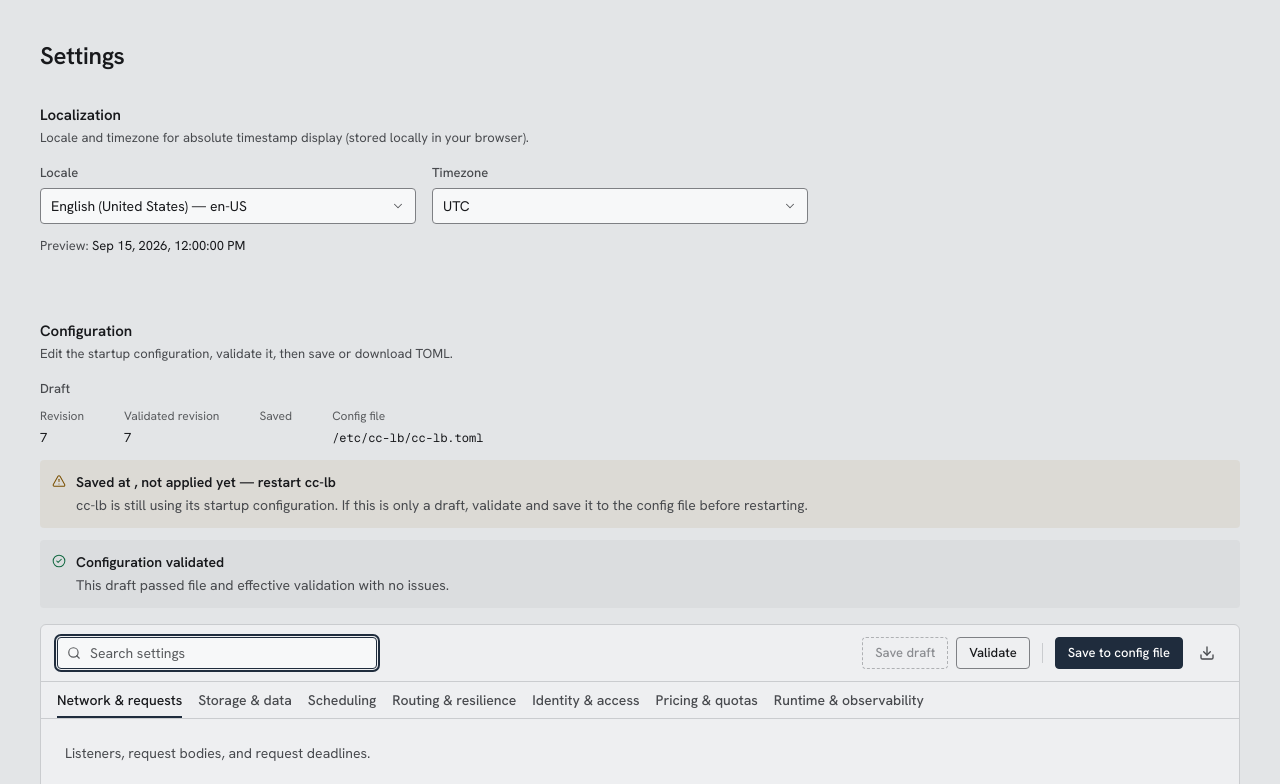
it: search option pointer selection survives the input blur race
The image size is (1280, 784).
Step 1. Type "tracing" into the dropdown labelled "Search settings" → (217, 653), box left=57, top=637, right=377, bottom=669
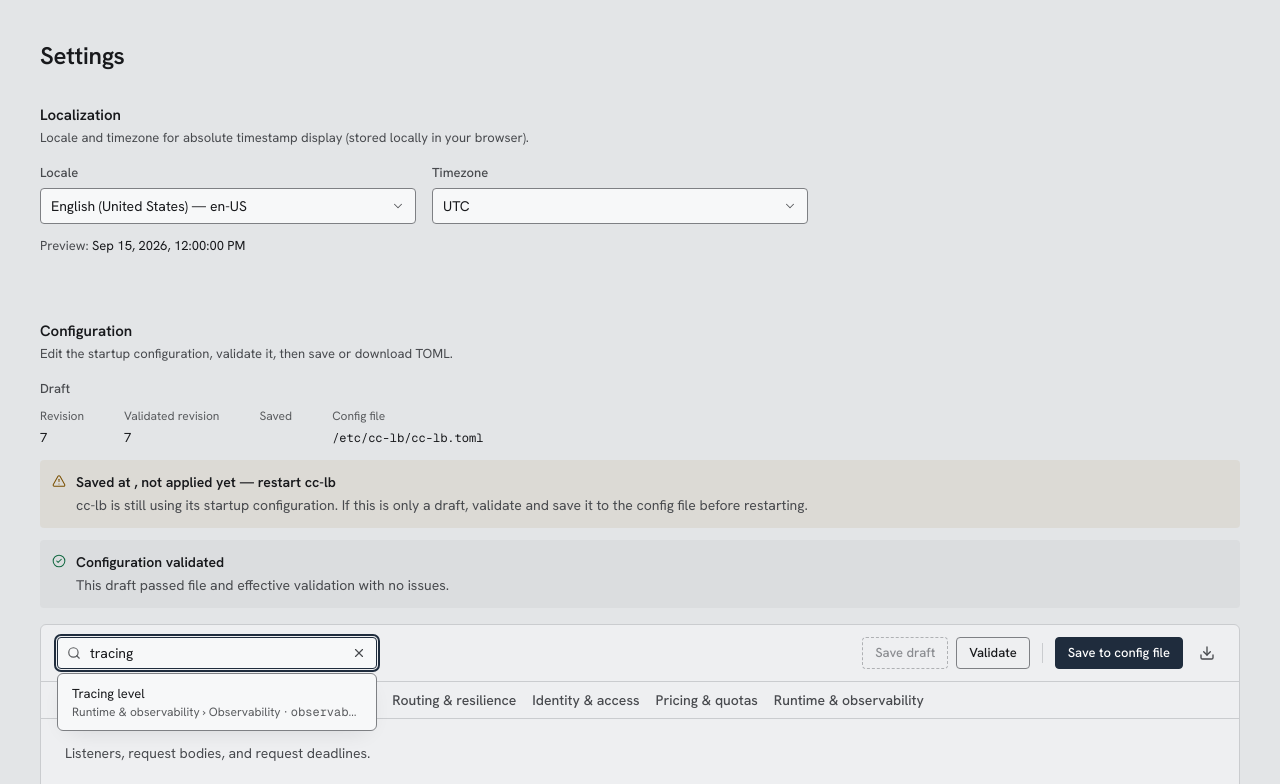
Step 2. Press the mouse on the option "Tracing" → (217, 702), box left=62, top=678, right=372, bottom=726
Step 3. Click the option "Tracing" → (217, 702), box left=62, top=678, right=372, bottom=726
(page scrolled)
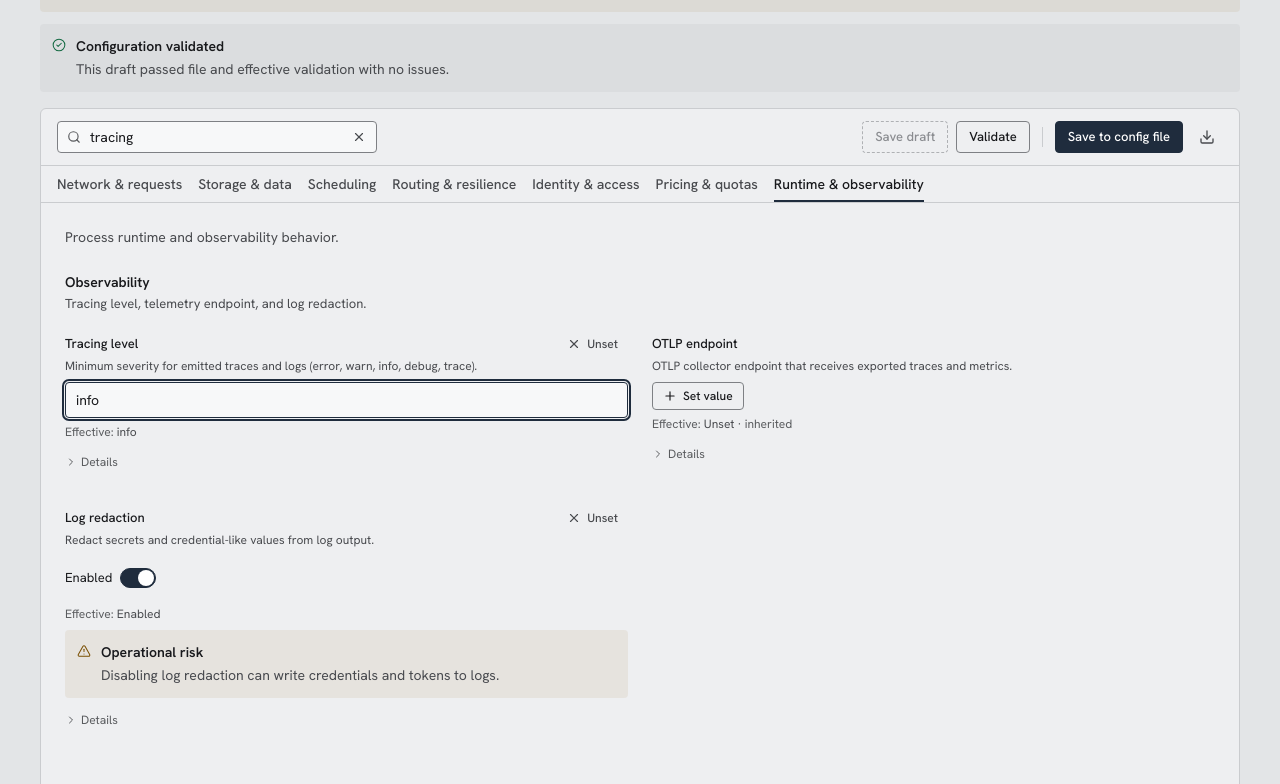
Now the list with test id "config-search-results" is gone
